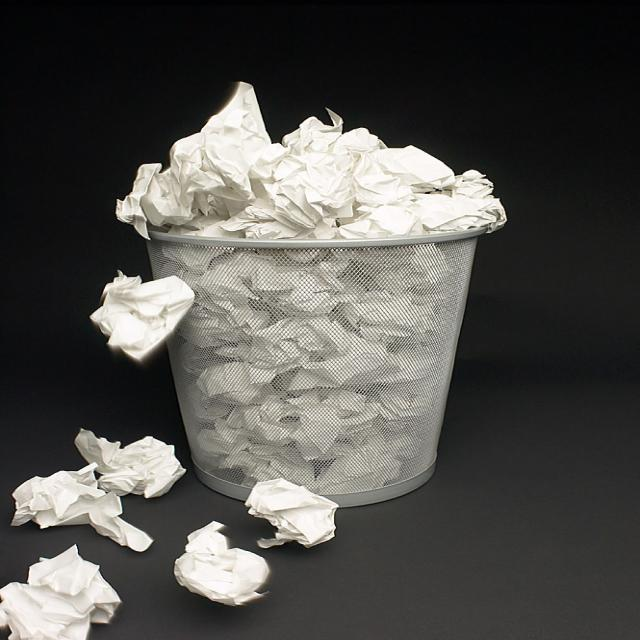Paper -Biodegradable-: (127, 87, 506, 233)
